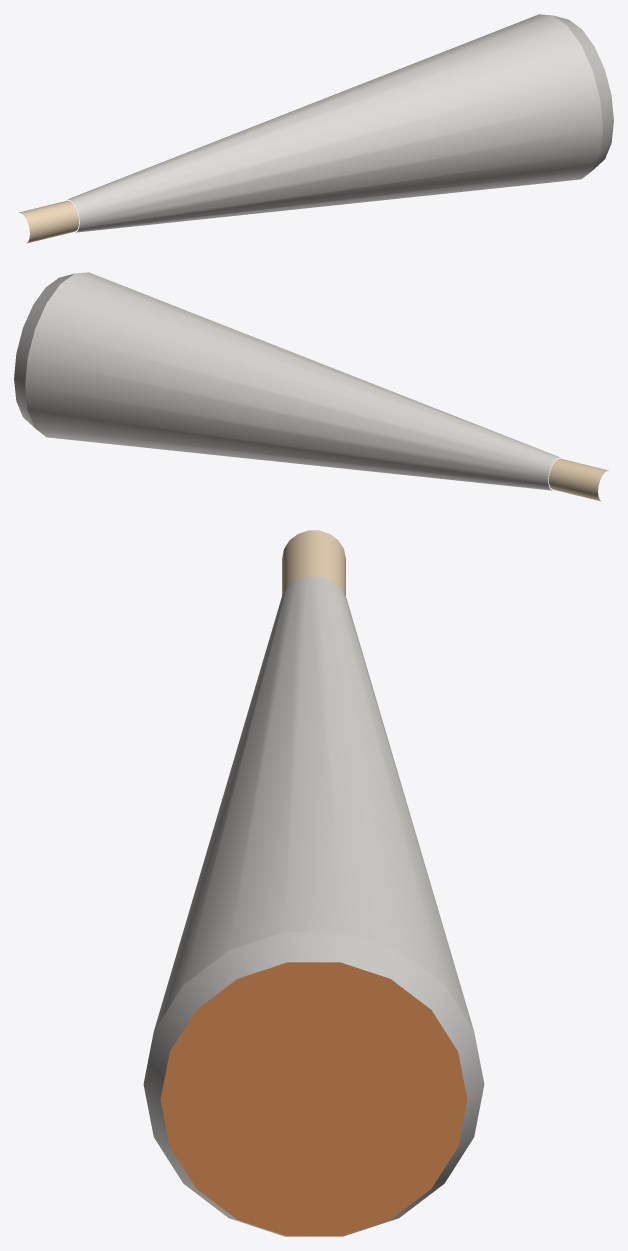
File: dzoint.glb
The picture shows the model from 3 angles, top to bottom: view 1: azimuth 30°, elevation 25°; view 2: azimuth 150°, elevation 25°; view 3: azimuth 270°, elevation 25°; orthographic projection. The views are drawn at different scales.
Size of the model in its own units: 0.18 by 0.0473 by 0.048.
